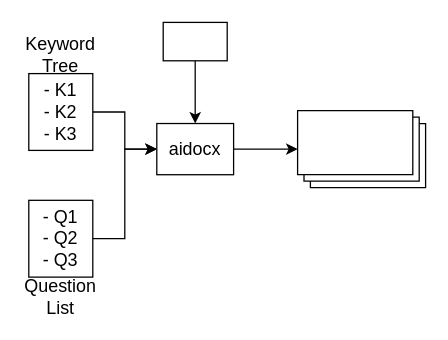
Some shapes in this 448 by 340 pixel diagram are drawn without their labels. Each missing label, with the box of its shape:
AI: (162, 21, 227, 61)
Document: (296, 109, 426, 188)
